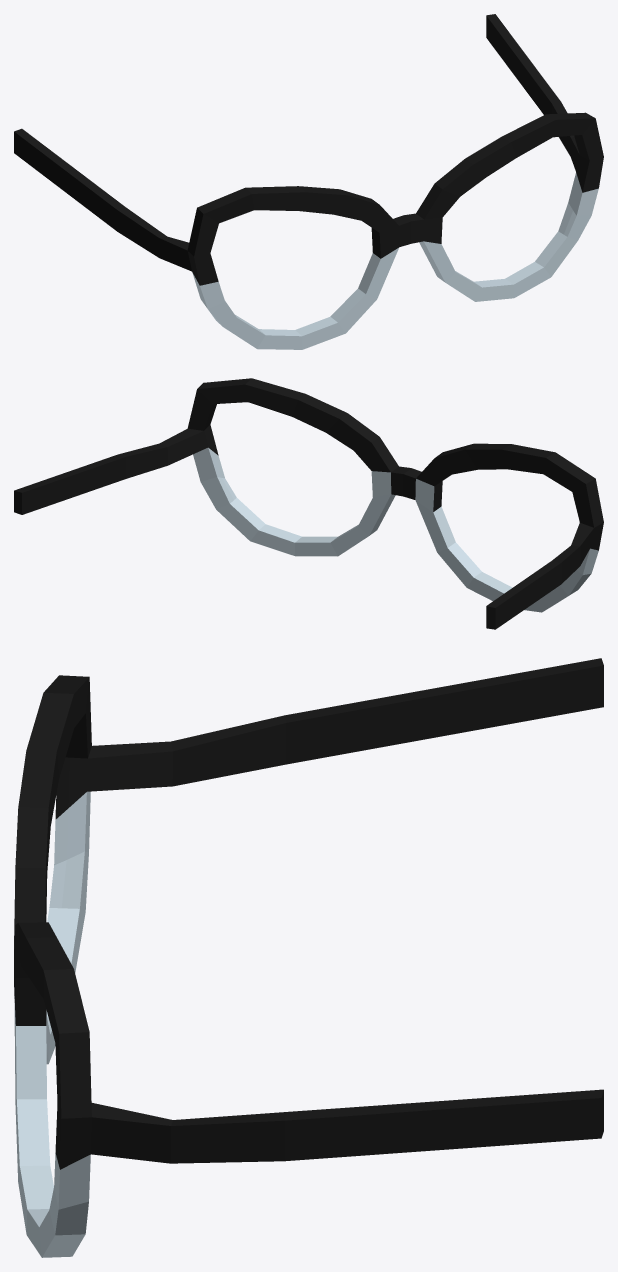
File: glassesRetro.glb
The picture shows the model from 3 angles, top to bottom: view 1: azimuth 30°, elevation 25°; view 2: azimuth 150°, elevation 25°; view 3: azimuth 270°, elevation 25°; orthographic projection. The views are drawn at different scales.
Visible parts, largest first — view 1: glassesRetro; view 2: glassesRetro; view 3: glassesRetro.
Boxes of the visible parts, left/top/right/bottom form: glassesRetro: left=14, top=14, right=603, bottom=349; glassesRetro: left=14, top=378, right=603, bottom=629; glassesRetro: left=14, top=658, right=603, bottom=1257.
Bounding box in the file's own units: 0.8402 × 0.2732 × 0.4762.
